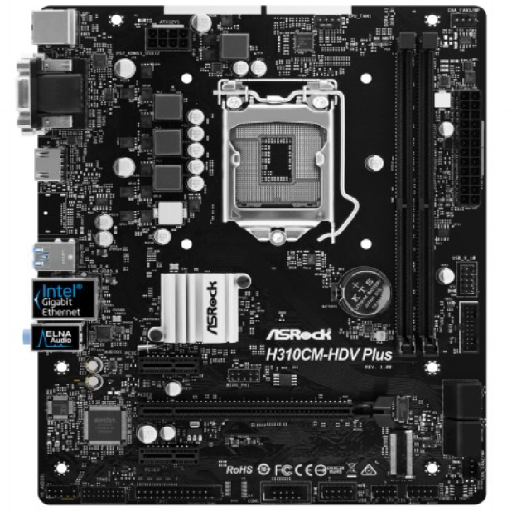CPU: (216, 74, 346, 247)
GPU: (137, 396, 395, 433)
MOTHERBOARD: (18, 5, 487, 505)
RAM: (393, 31, 440, 357)
